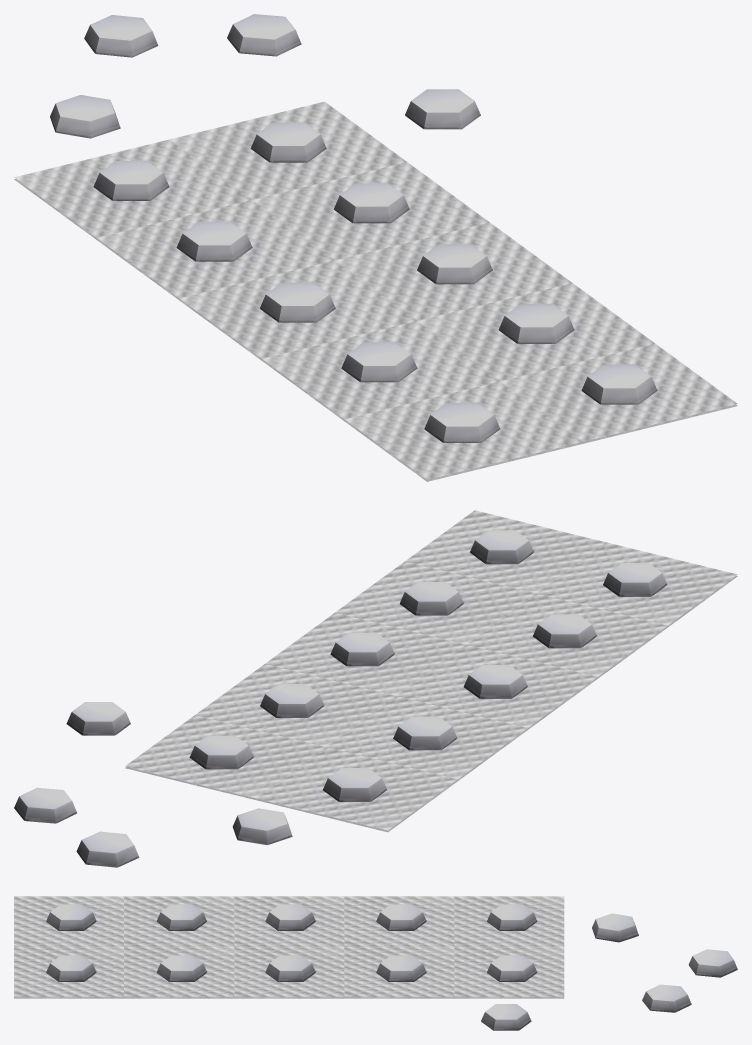
Rendered from NvMingXingJia_02_YaoPian_01.FBX.
3 renders of one model, top to bottom at view 1: azimuth 30°, elevation 25°; view 2: azimuth 150°, elevation 25°; view 3: azimuth 270°, elevation 25°, orthographic. The views are drawn at different scales.
Visible parts, largest first — view 1: TouKuiZheJia_yaopian_01; view 2: TouKuiZheJia_yaopian_01; view 3: TouKuiZheJia_yaopian_01.
Part boxes in pixels (bbox=[...]): TouKuiZheJia_yaopian_01: bbox=[14, 14, 737, 481]; TouKuiZheJia_yaopian_01: bbox=[14, 510, 737, 867]; TouKuiZheJia_yaopian_01: bbox=[14, 896, 737, 1030].
Size of the model in its own units: 46.46 by 1.77 by 106.
